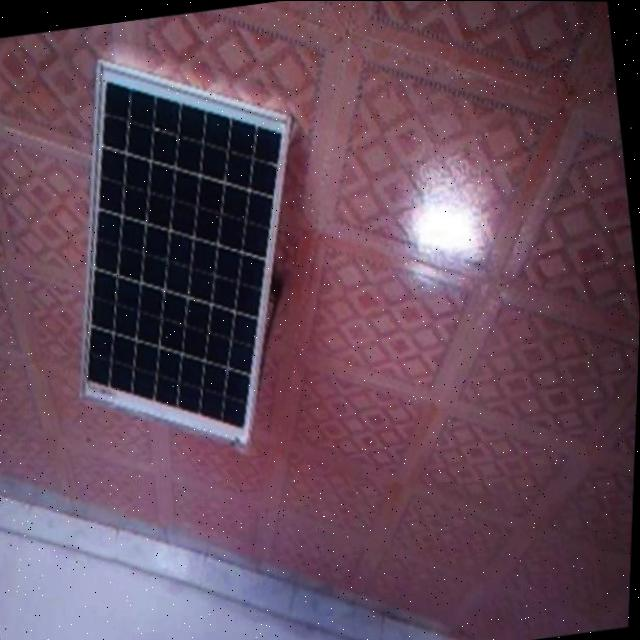Normal Solar Panel: (35, 33, 336, 467)
